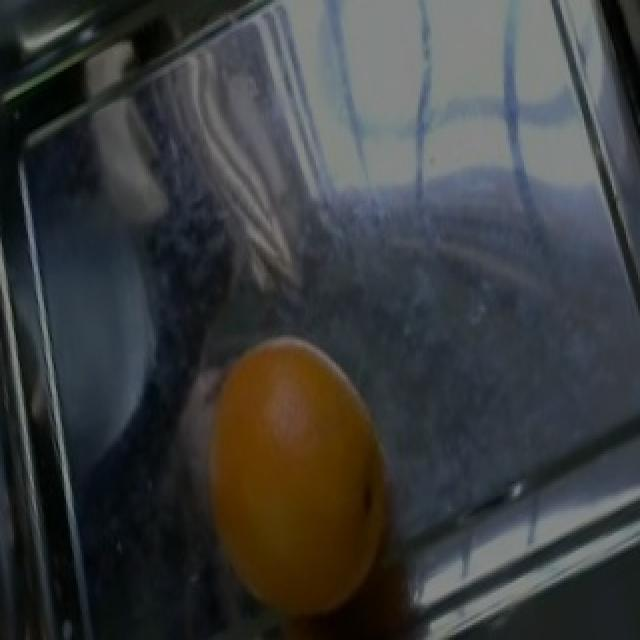Fruit: (198, 322, 414, 640)
